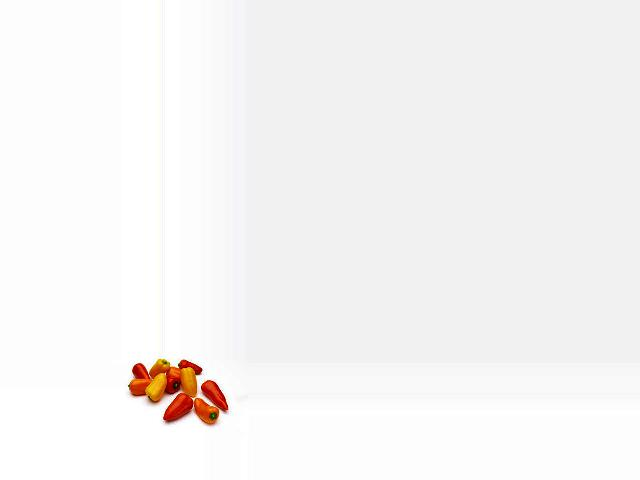bell_pepper: (176, 358, 205, 372)
